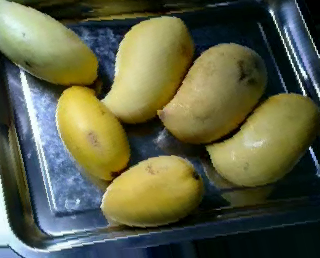Mango: (156, 41, 268, 147), (98, 16, 196, 122), (207, 92, 319, 183), (0, 0, 101, 88), (98, 153, 207, 232), (53, 83, 131, 179)
